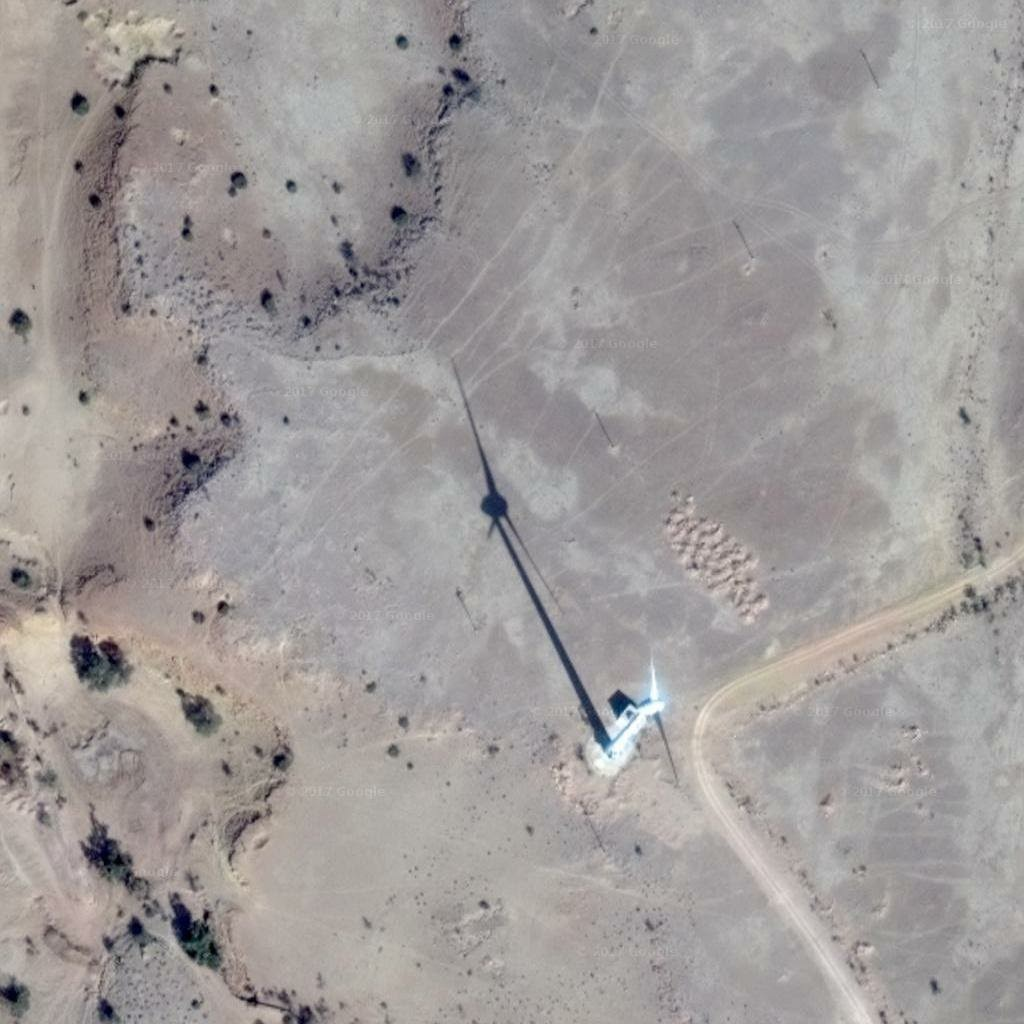Windmill: (445, 363, 620, 743)
